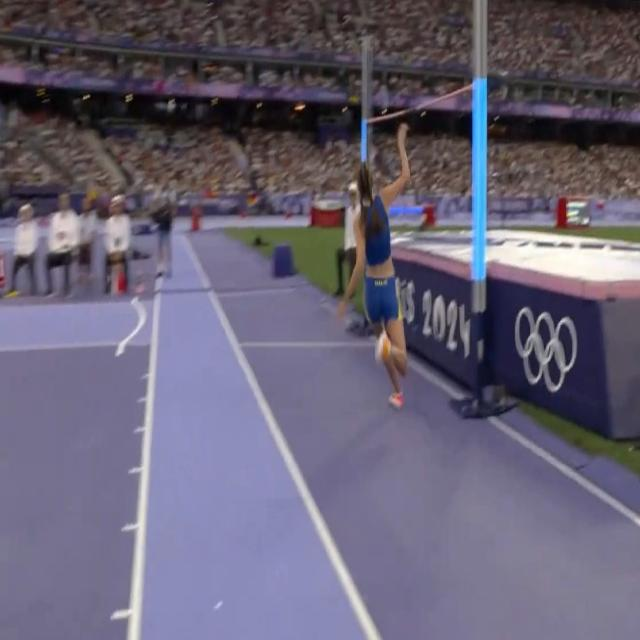jump: (336, 118, 414, 412)
